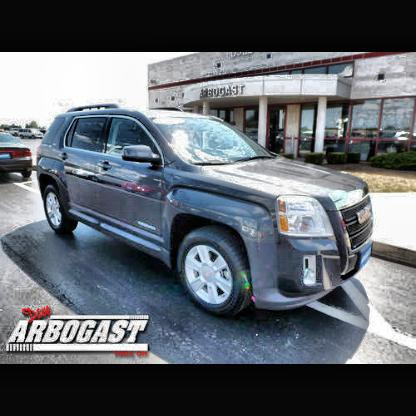GMC Terrain SUV 2012: (37, 104, 375, 318)
